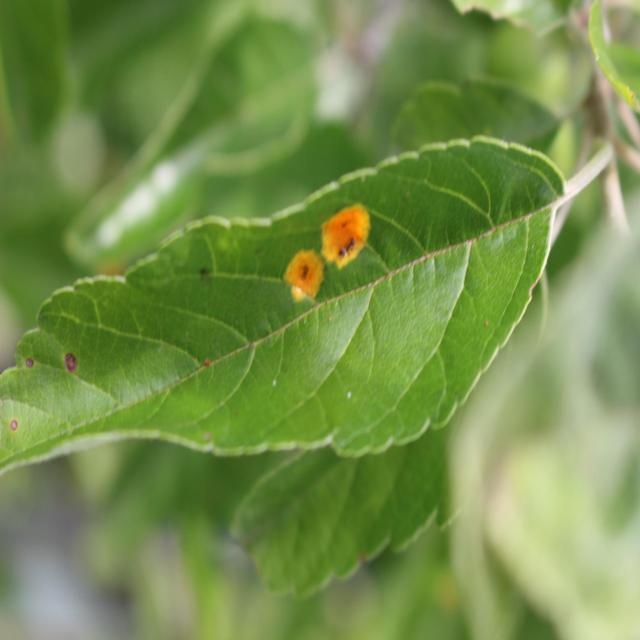Rust: (319, 192, 379, 272), (279, 230, 324, 314)
